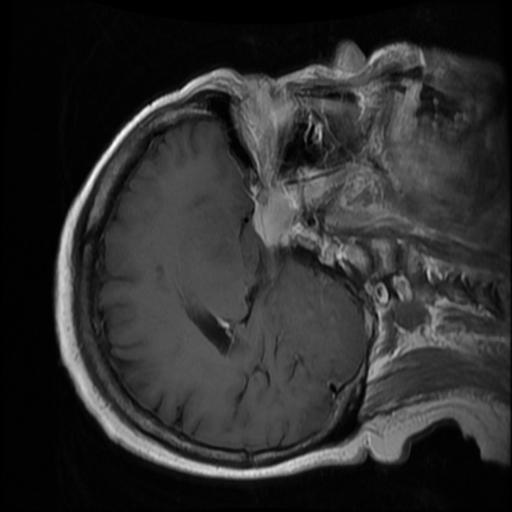meningioma: (252, 187, 296, 248)
